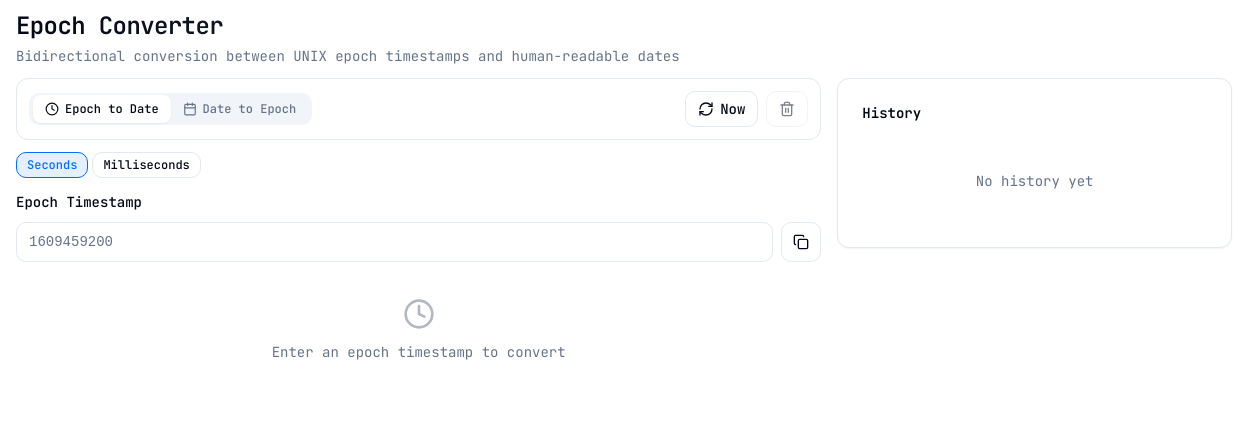
TimestampConverterPage › date to epoch conversion › converts a date input to epoch
Press the mouse on the tab "Date to Epoch" at (239, 109), box [171,95,308,123]
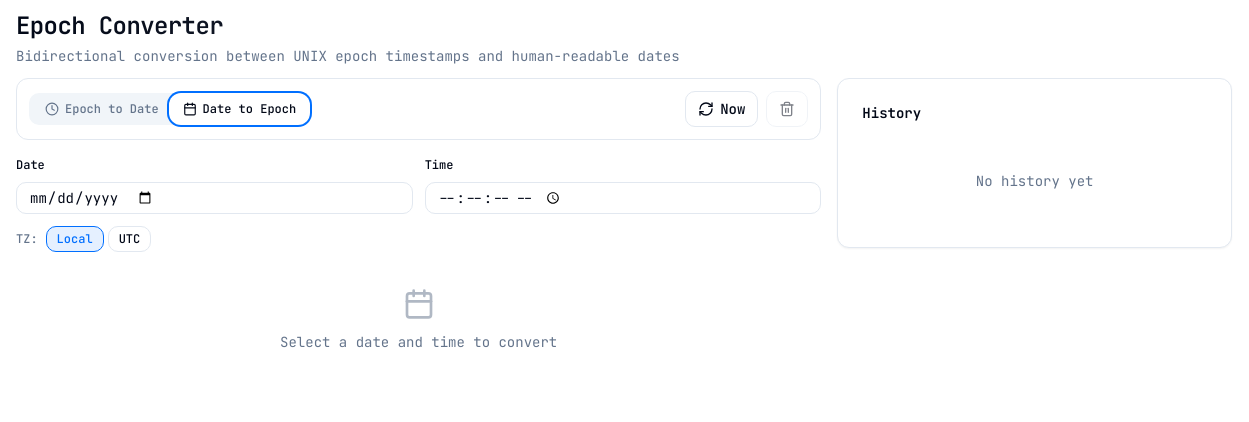
Type "2021-01-01" into the date field labelled "Date".
click(214, 198); type("2021-01-01")  # box [16,182,413,214]
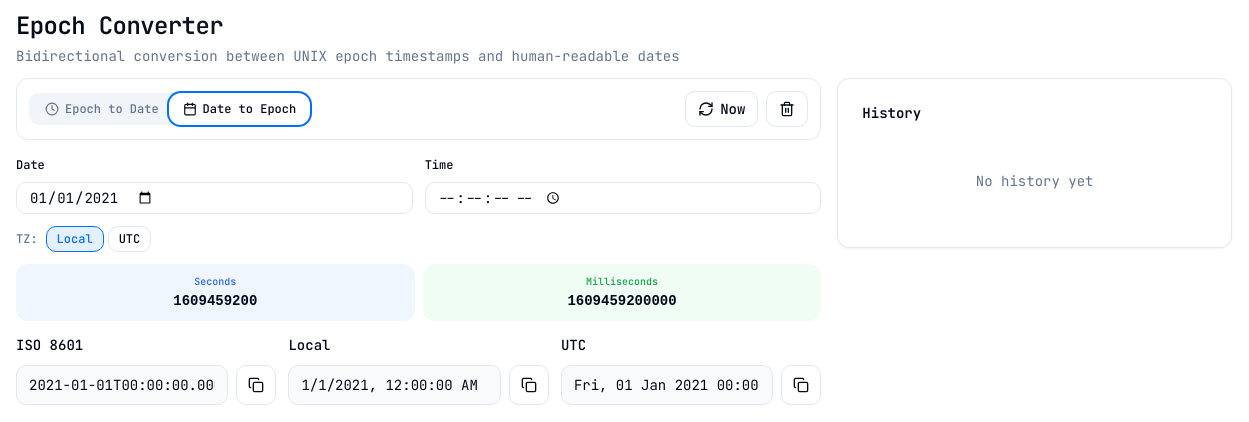
Result: the text "ISO 8601" is shown at [16,336,83,354]
